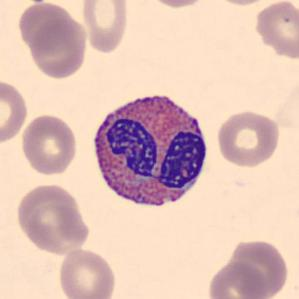Eosinophil: (88, 83, 214, 220)
Platelets: (28, 0, 48, 5)
RBC: (14, 182, 92, 256), (27, 16, 90, 81), (214, 108, 282, 168), (227, 236, 292, 298), (19, 112, 80, 176), (16, 1, 79, 53), (56, 246, 117, 299), (251, 0, 298, 61), (79, 0, 130, 55), (206, 259, 268, 299), (0, 76, 30, 146), (142, 0, 212, 9), (208, 0, 275, 7)
